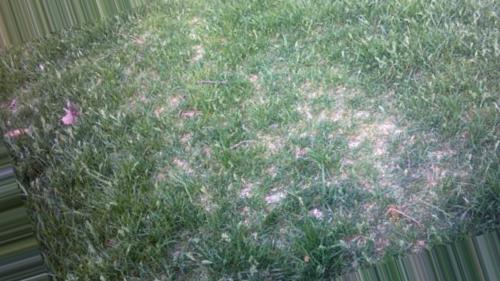patch: (246, 73, 374, 176)
